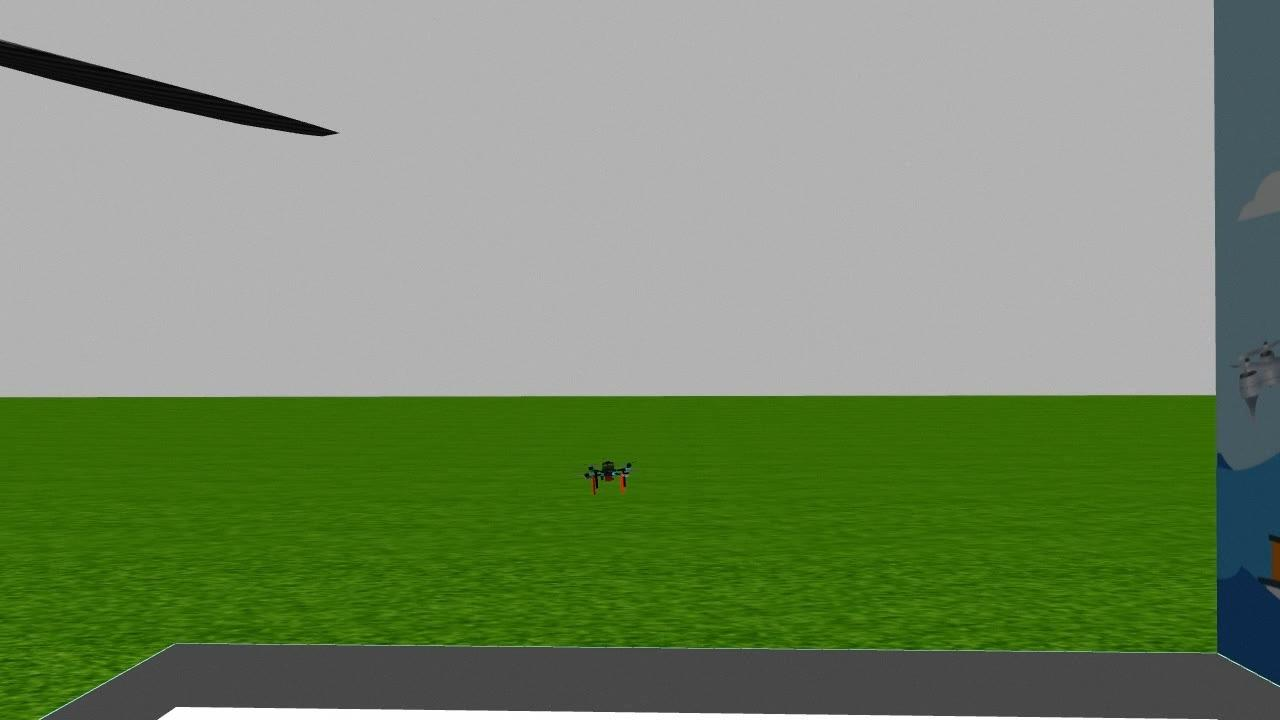UAV: (564, 442, 654, 502)
